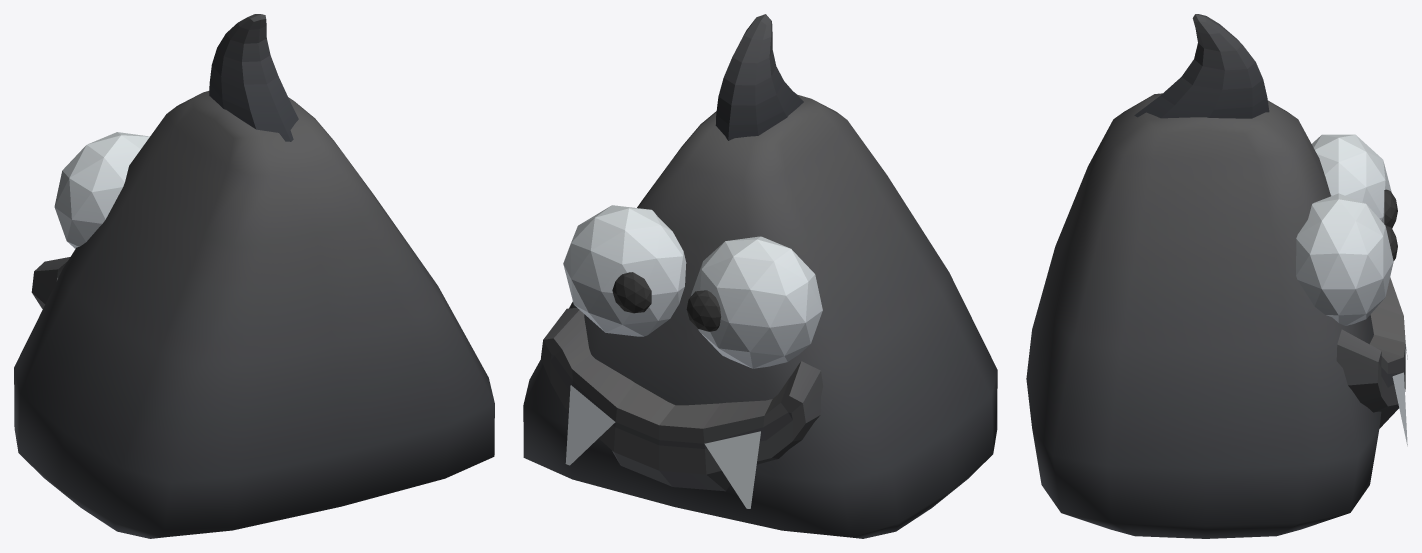
Rendered from BlackShark_pickup.fbx.
3 views of the same model, side by side, from view 1: azimuth 30°, elevation 25°; view 2: azimuth 150°, elevation 25°; view 3: azimuth 270°, elevation 25° (orthographic). The views are drawn at different scales.
Parts seen in each view (by area): view 1: BlackShark_pickup; view 2: BlackShark_pickup; view 3: BlackShark_pickup.
Boxes of the visible parts, x1,y1,x2,y2 form: BlackShark_pickup: (14,14,494,538); BlackShark_pickup: (523,14,997,538); BlackShark_pickup: (1026,14,1407,538).
Bounding box in the file's own units: 101 × 116 × 88.63.
